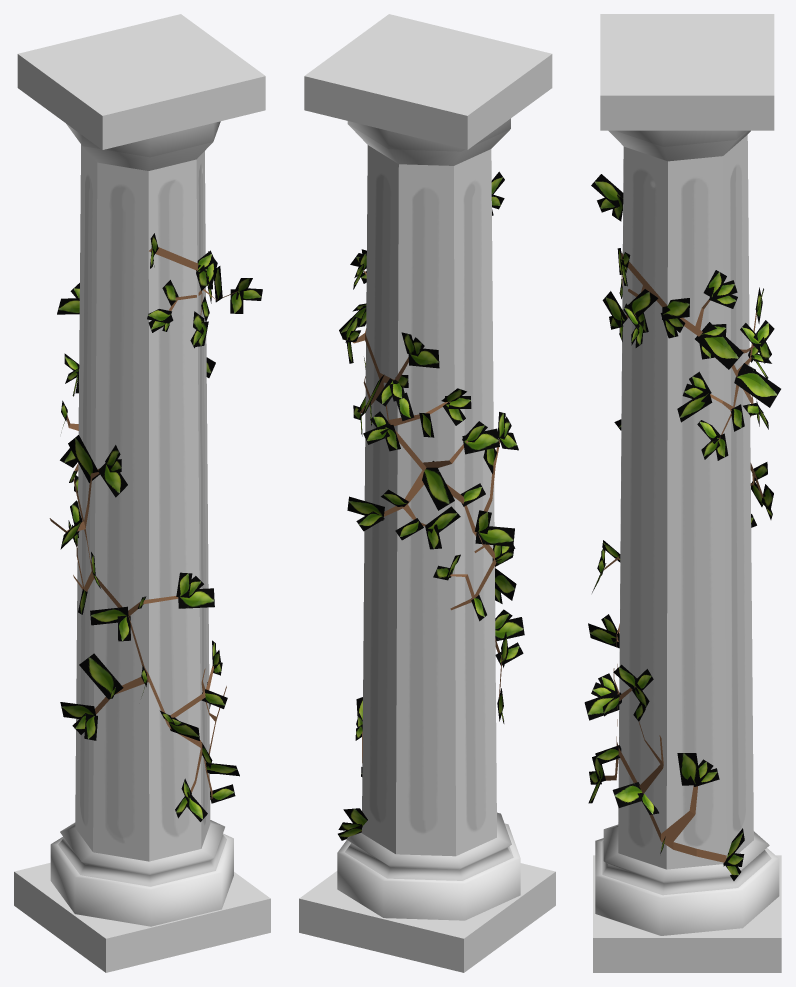
Rendered from Column.glb.
3 renders of one model, left to right at view 1: azimuth 30°, elevation 25°; view 2: azimuth 150°, elevation 25°; view 3: azimuth 270°, elevation 25°, orthographic. The views are drawn at different scales.
Visible parts, largest first — view 1: Column_Asset; view 2: Column_Asset; view 3: Column_Asset.
Part boxes in pixels (x1,y1,x2,y2): Column_Asset: (14,14,270,972); Column_Asset: (299,14,555,972); Column_Asset: (584,14,781,972).
Size of what is drawn, in the model's own units: 1.08 by 5 by 1.02.
Materials: 1 (1 with a texture image).
